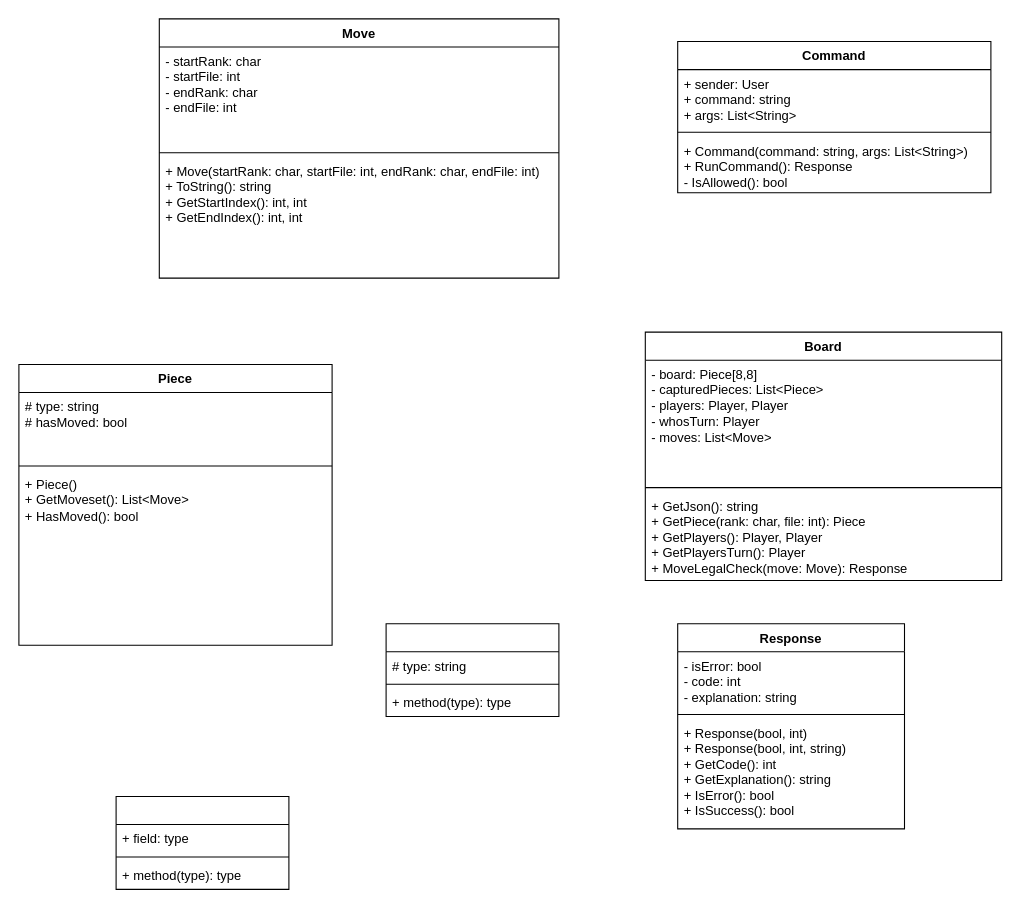
This 1021x912 diagram has some shape labels left out. Here are the shapes that lost their labels. From the top down, the box of each, then its label:
(385, 623, 559, 717): User
(115, 795, 289, 889): Server
